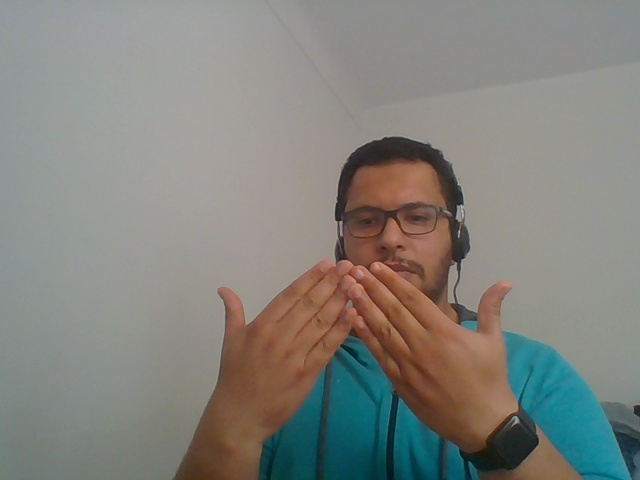thanks: (183, 242, 595, 480)
